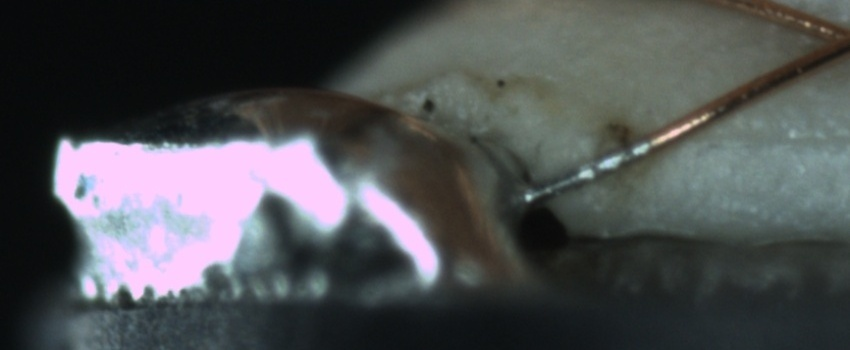CL: (795, 6, 850, 67)
DL: (682, 110, 850, 174)
TS: (534, 137, 655, 199)
